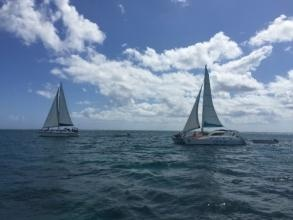fanchuan: (169, 67, 262, 143), (38, 81, 84, 136)
